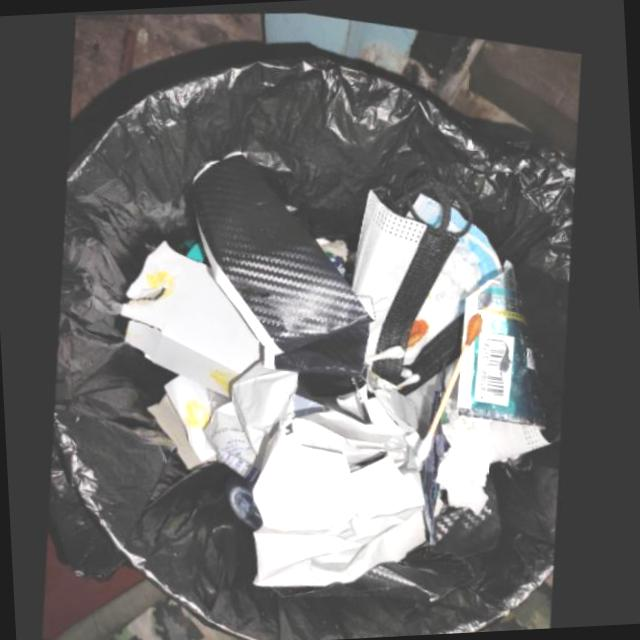carton: (125, 237, 266, 395), (152, 372, 235, 466)
giay: (256, 440, 428, 583), (285, 381, 422, 467), (439, 411, 554, 512), (209, 363, 304, 471)
hop_nhua: (477, 271, 521, 419)
khau_trang: (357, 170, 481, 389), (403, 244, 487, 395), (413, 190, 508, 268)
